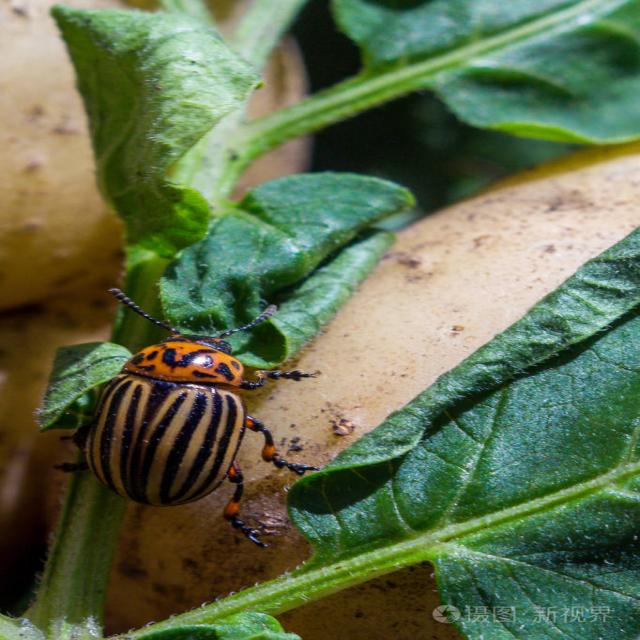ShuCaiHuaBanChong-Grown-: (85, 323, 266, 509)
